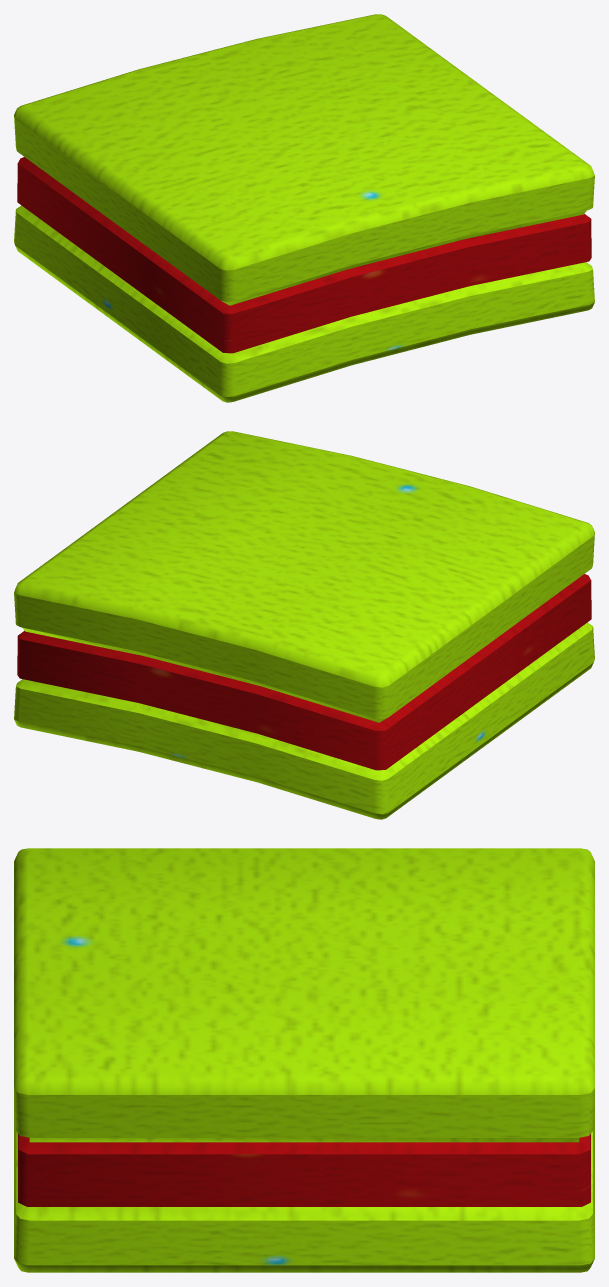
Rendered from LayersSquare_UV_FBX.fbx.
3 views of the same model, one above another, from view 1: azimuth 30°, elevation 25°; view 2: azimuth 150°, elevation 25°; view 3: azimuth 270°, elevation 25° (orthographic). The views are drawn at different scales.
Visible parts, largest first — view 1: 3layer; view 2: 3layer; view 3: 3layer.
Part boxes in pixels (x1,y1,x2,y2): 3layer: (14,14,594,402); 3layer: (14,431,594,819); 3layer: (14,848,594,1272).
Bounding box in the file's own units: 120 × 47.71 × 120.
